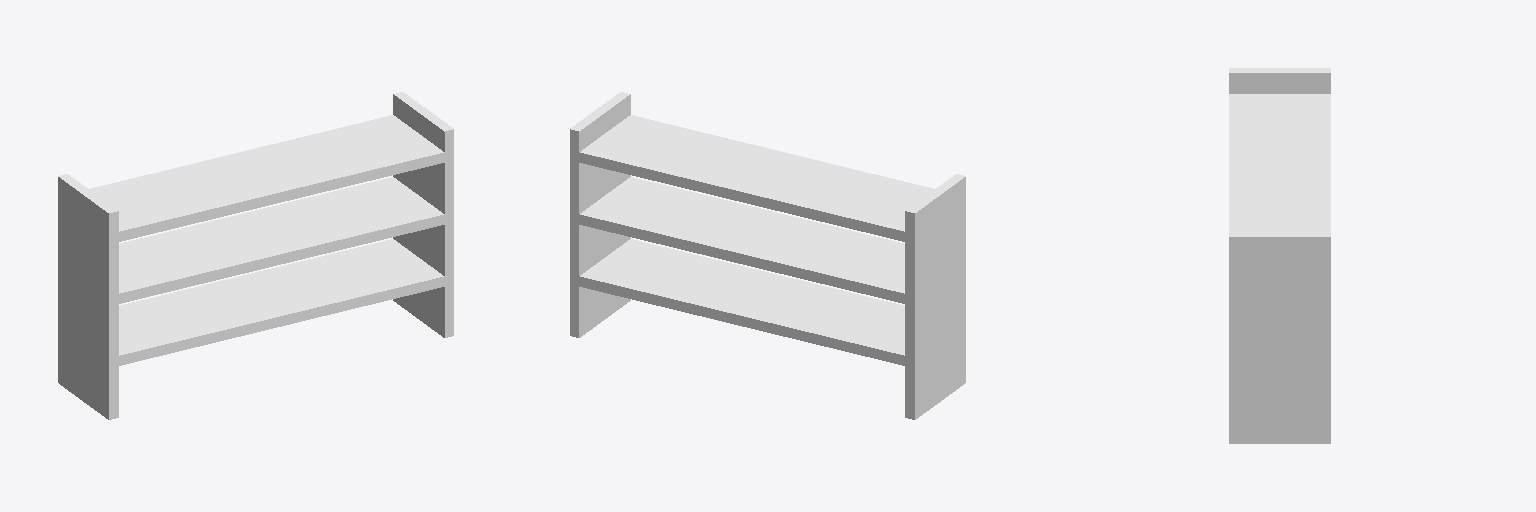
File: EmptyShelf.obj
3 renders of one model, left to right at view 1: azimuth 30°, elevation 25°; view 2: azimuth 150°, elevation 25°; view 3: azimuth 270°, elevation 25°, orthographic.
Visible parts, largest first — view 1: object 1; view 2: object 1; view 3: object 1.
Boxes of the visible parts, x1=… form: object 1: x1=58, y1=92, x2=453, y2=419; object 1: x1=570, y1=92, x2=965, y2=419; object 1: x1=1229, y1=68, x2=1330, y2=443.
Bounding box in the file's own units: 3.5 × 2 × 0.9.